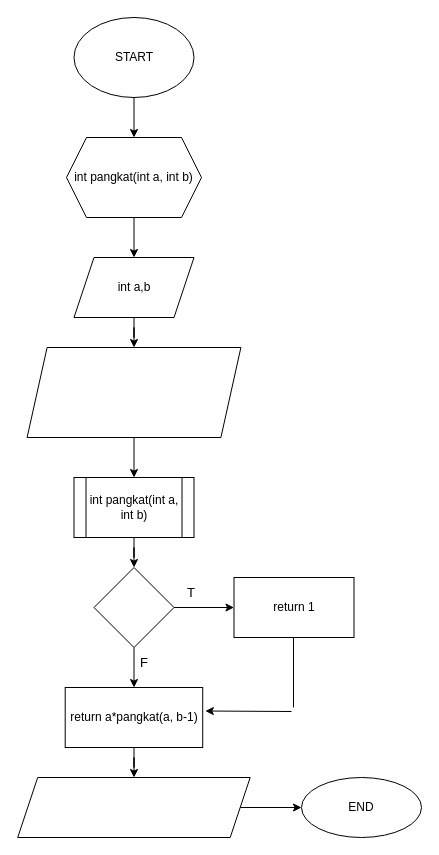
Some shapes in this 439 by 855 pixel diagram are drawn without their labels. The centre of each missing label's shape, as x and y in pixels:
b==0?: the point at 133,607
p rint"masukan nilai x = " input a print"masukan nilai y = " input b: the point at 133,392
print a " dipangkatkan " b " = " pangkat (a,b): the point at 133,807
